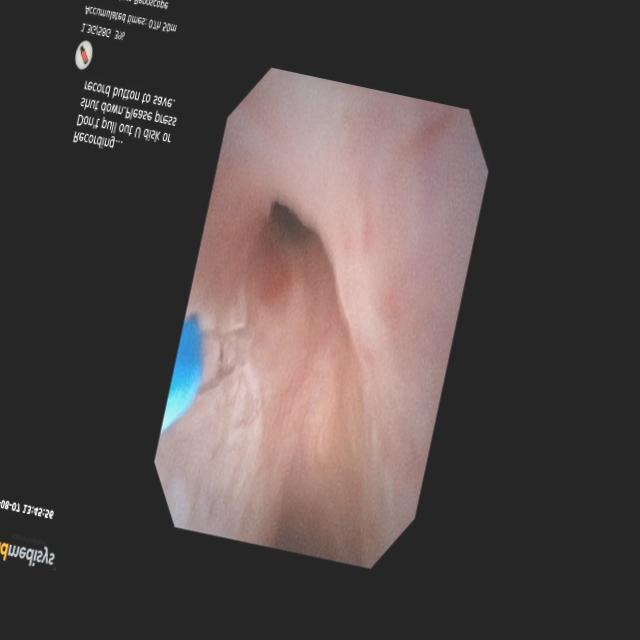laser-fibre: (200, 327, 249, 394)
